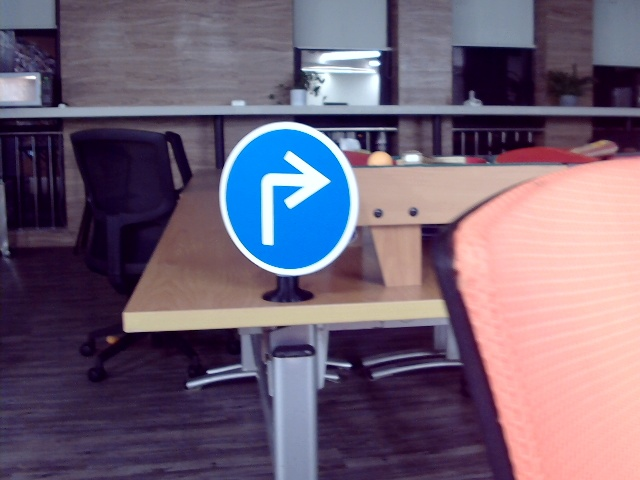turn_right: (252, 154, 327, 245)
